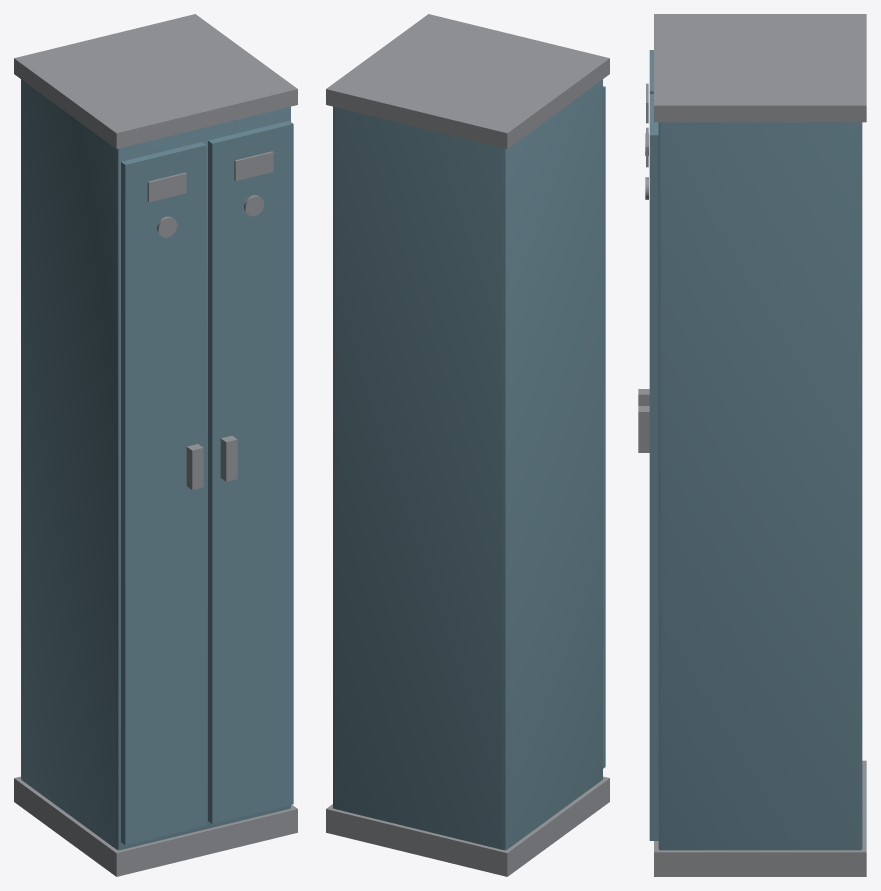
The model's file is PR_locker.fbx.
3 views of the same model, side by side, from view 1: azimuth 30°, elevation 25°; view 2: azimuth 150°, elevation 25°; view 3: azimuth 270°, elevation 25° (orthographic). The views are drawn at different scales.
Visible parts, largest first — view 1: PR_locker; view 2: PR_locker; view 3: PR_locker.
Boxes of the visible parts, x1,y1,x2,y2 form: PR_locker: [14, 14, 297, 876]; PR_locker: [326, 14, 609, 876]; PR_locker: [638, 14, 866, 876].
Bounding box in the file's own units: 0.48 × 1.88 × 0.505.
